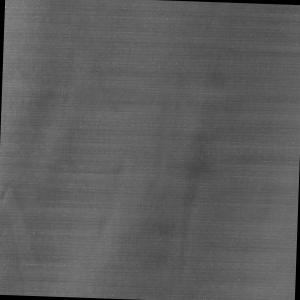Wrinkle: (178, 106, 224, 300), (1, 179, 60, 298)
